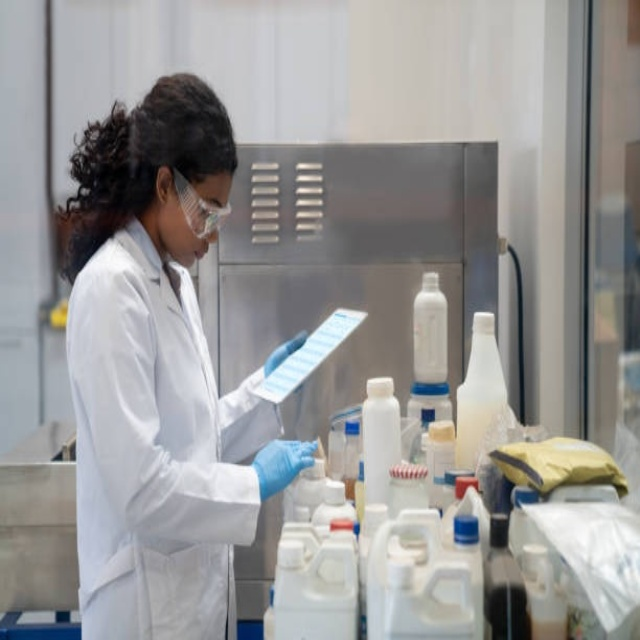Gafas: (173, 166, 233, 241)
Guantes: (251, 436, 320, 502), (264, 330, 309, 382)
Sin_mascara: (178, 240, 218, 271)
